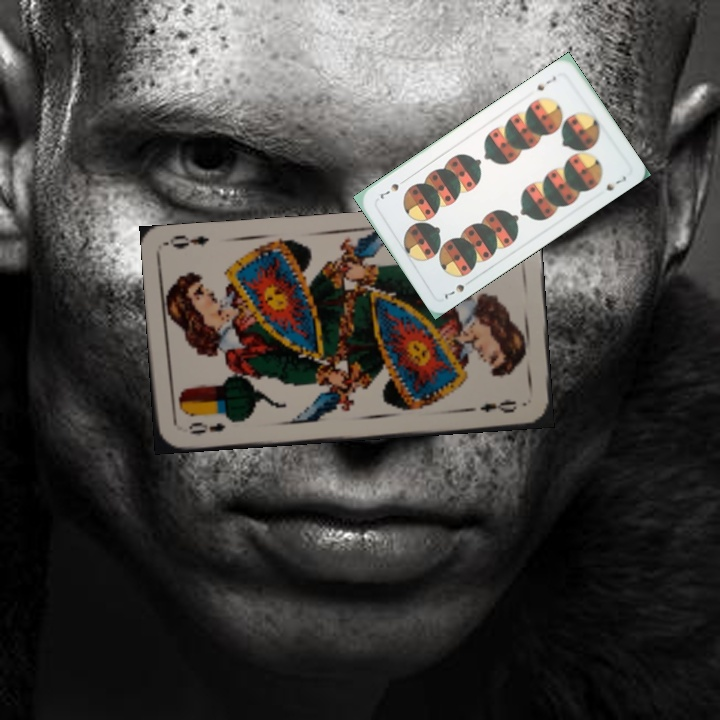EO: (185, 418, 228, 437)
S7: (440, 280, 467, 302), (533, 72, 559, 94)
